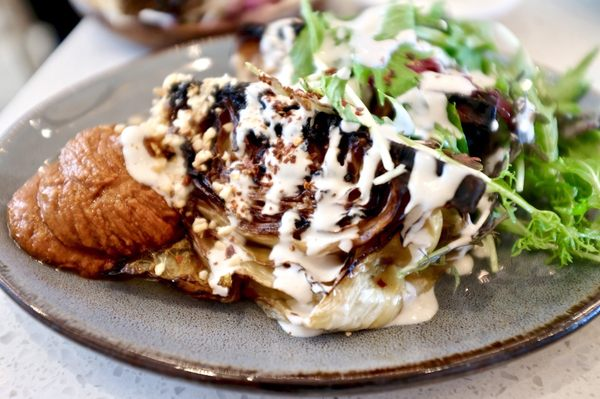sandwich: (4, 24, 572, 337)
